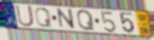5: (118, 11, 136, 34), (100, 10, 117, 33)
N: (56, 8, 77, 31)
Q: (76, 9, 96, 31), (34, 7, 53, 29)
U: (15, 4, 36, 29)
